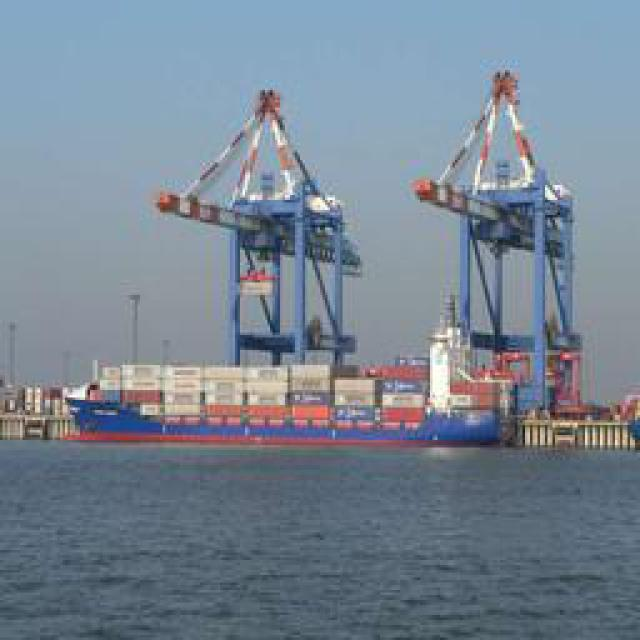Ship: (65, 361, 513, 444)
